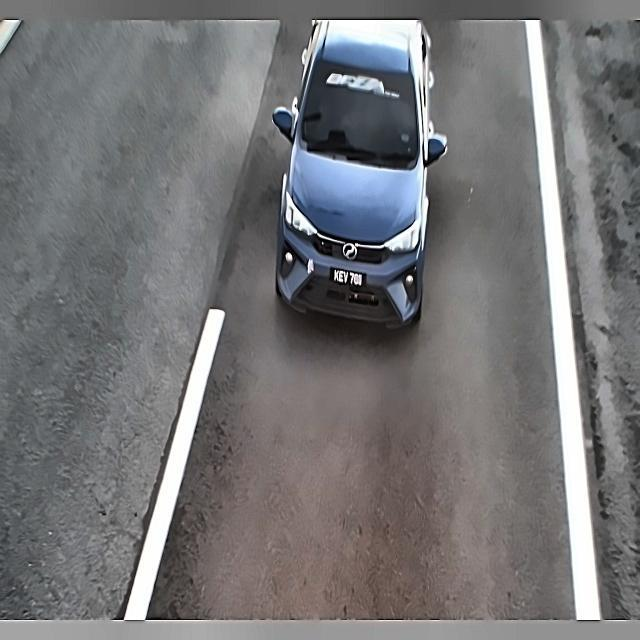car: (323, 256, 374, 301)
